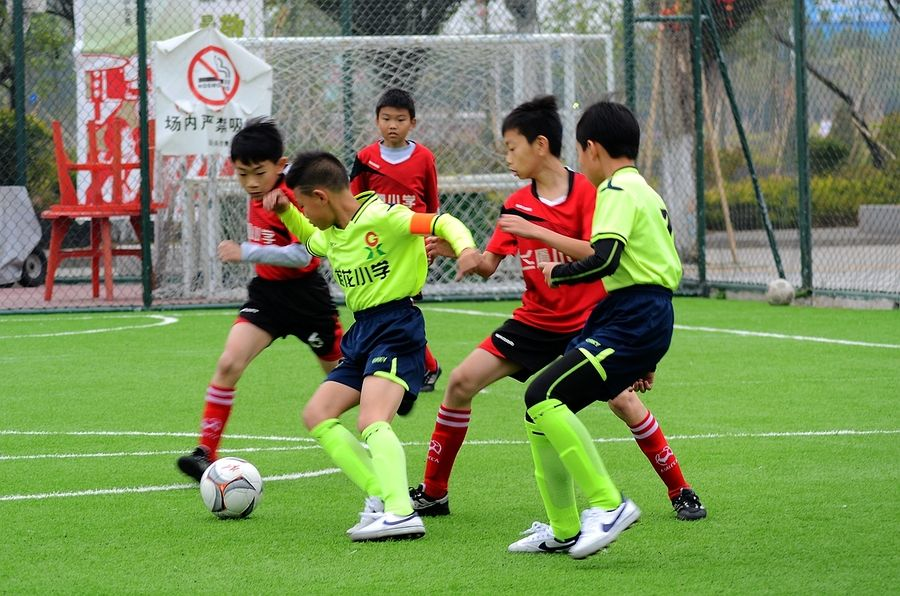football: (201, 456, 263, 522)
